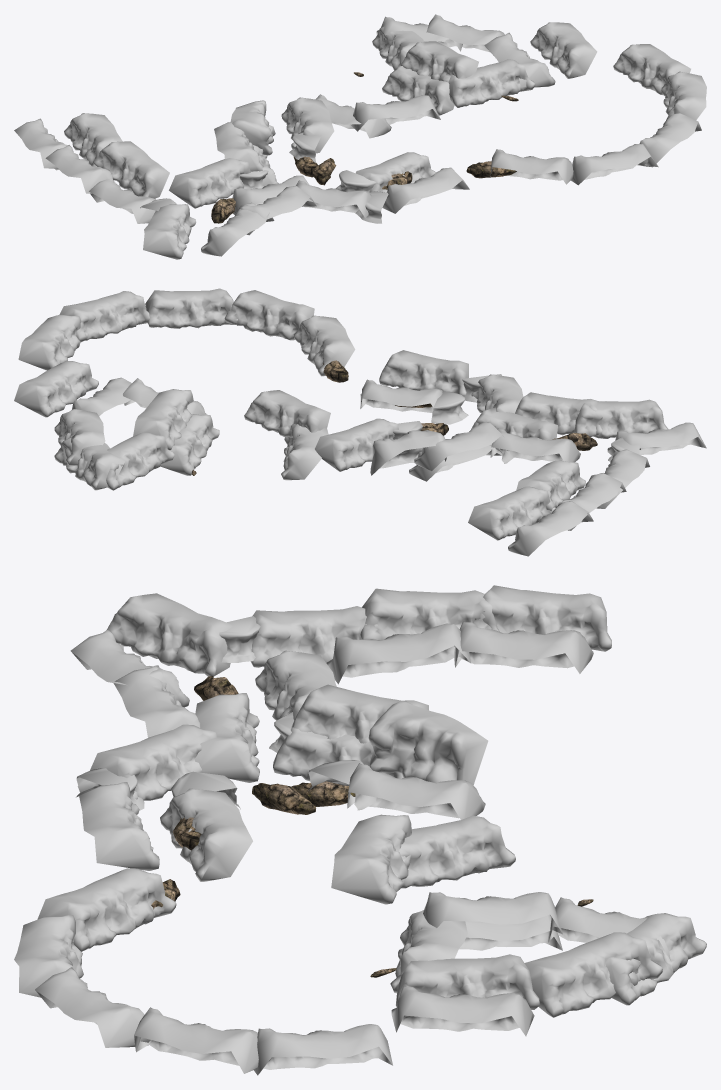
The model's file is Clifffffs.FBX.
3 views of the same model, one above another, from view 1: azimuth 30°, elevation 25°; view 2: azimuth 150°, elevation 25°; view 3: azimuth 270°, elevation 25° (orthographic). The views are drawn at different scales.
Parts seen in each view (by area): view 1: RHEF_GenericCliffB__obile__2_; view 2: RHEF_GenericCliffB__obile__2_; view 3: RHEF_GenericCliffB__obile__2_.
Boxes of the visible parts, bbox=[...] form: RHEF_GenericCliffB__obile__2_: bbox=[14, 14, 706, 259]; RHEF_GenericCliffB__obile__2_: bbox=[14, 288, 706, 556]; RHEF_GenericCliffB__obile__2_: bbox=[14, 585, 706, 1075].
Bounding box in the file's own units: 48173 × 4252 × 30426.
